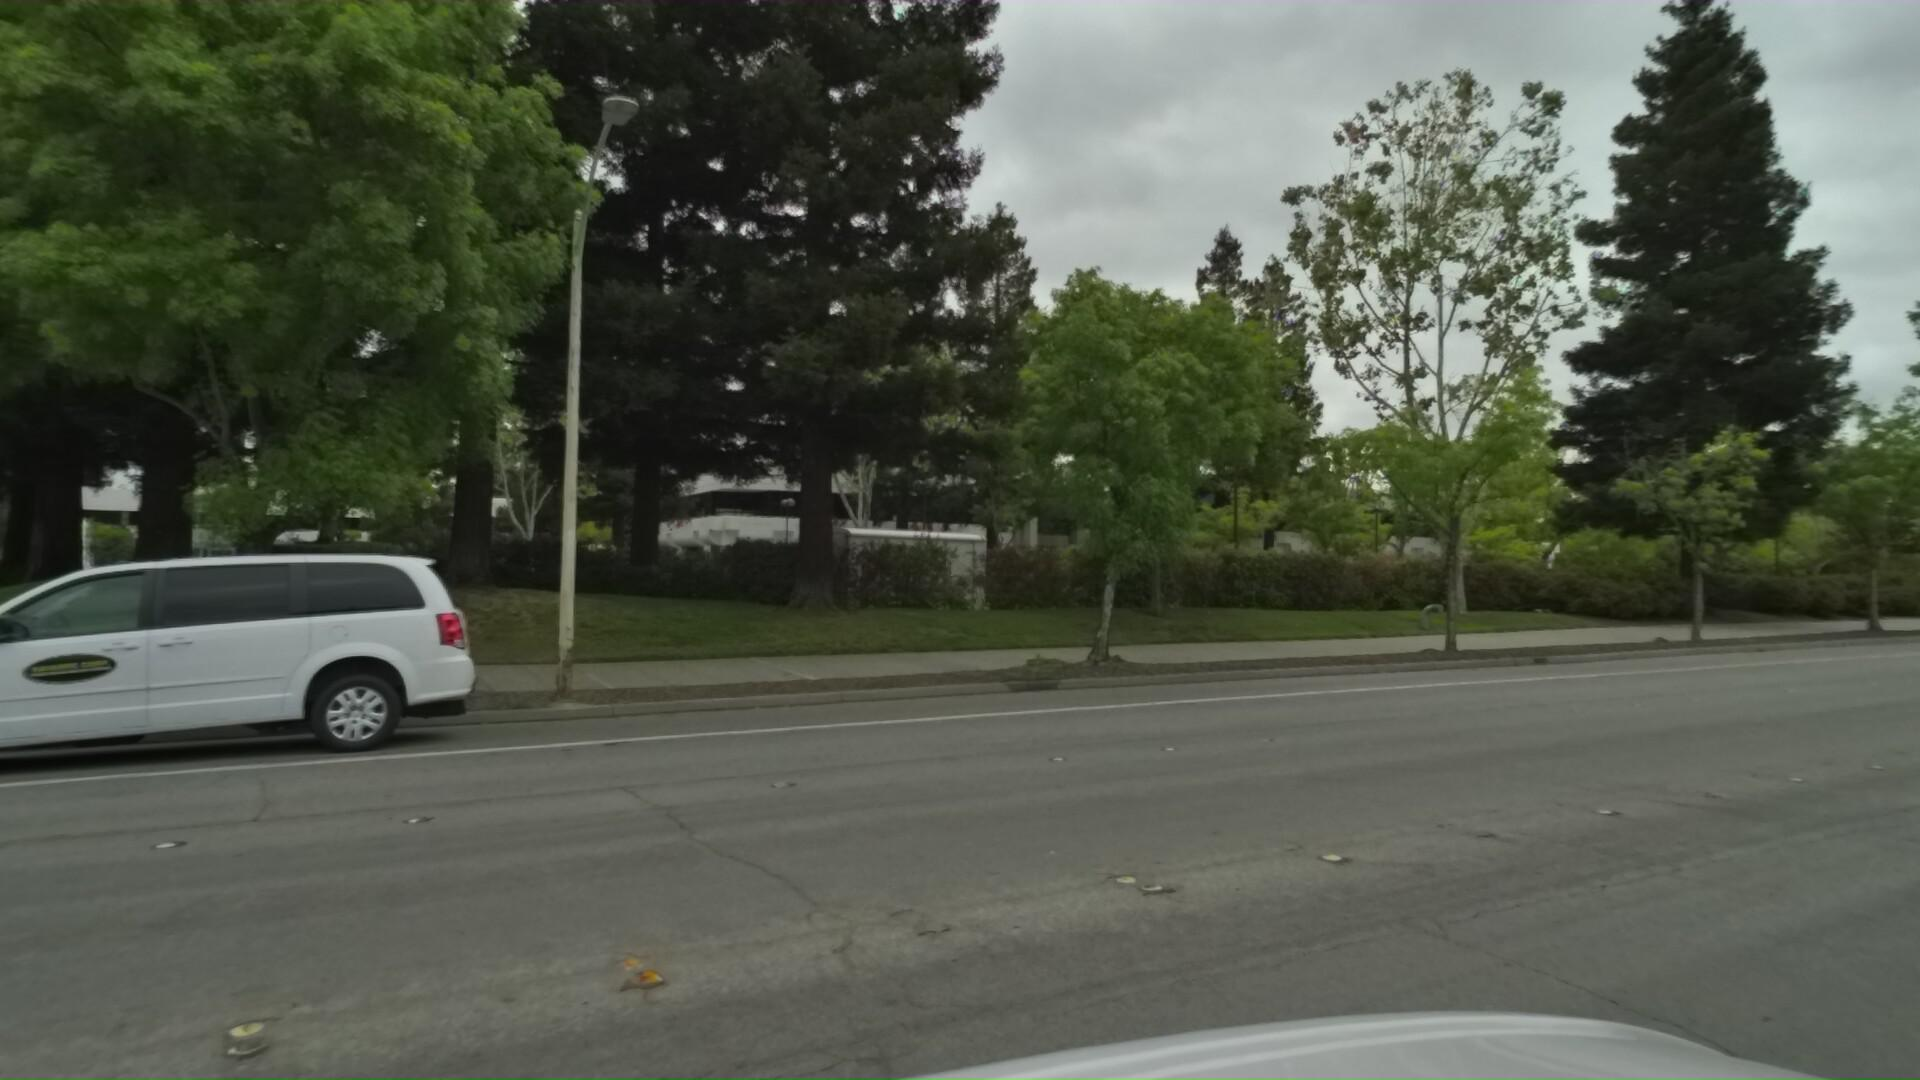car: (0, 498, 423, 820)
other_vehicle: (775, 516, 985, 615)
